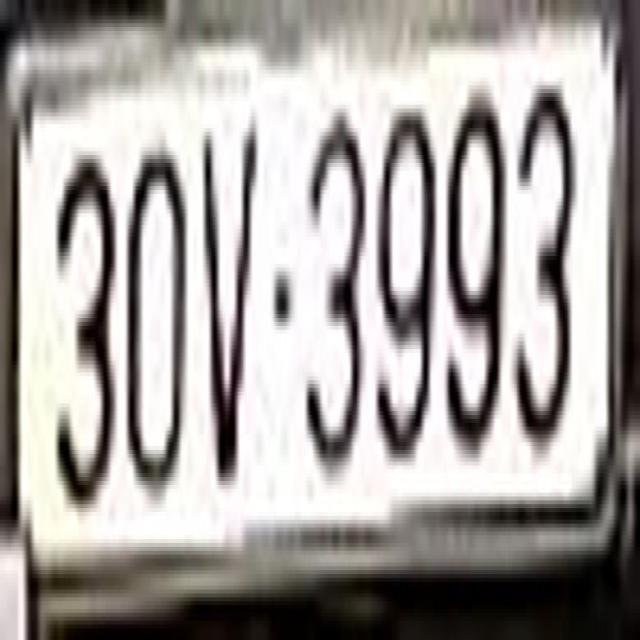0: (126, 144, 188, 532)
3: (54, 147, 117, 512), (303, 105, 364, 481), (516, 85, 570, 450)
9: (445, 89, 503, 454), (376, 93, 431, 454)
V: (200, 112, 257, 485)
